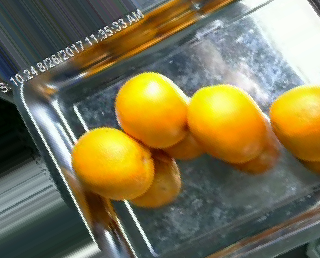Orange: (187, 83, 267, 164), (71, 125, 154, 201), (113, 72, 190, 150), (268, 82, 319, 162)
